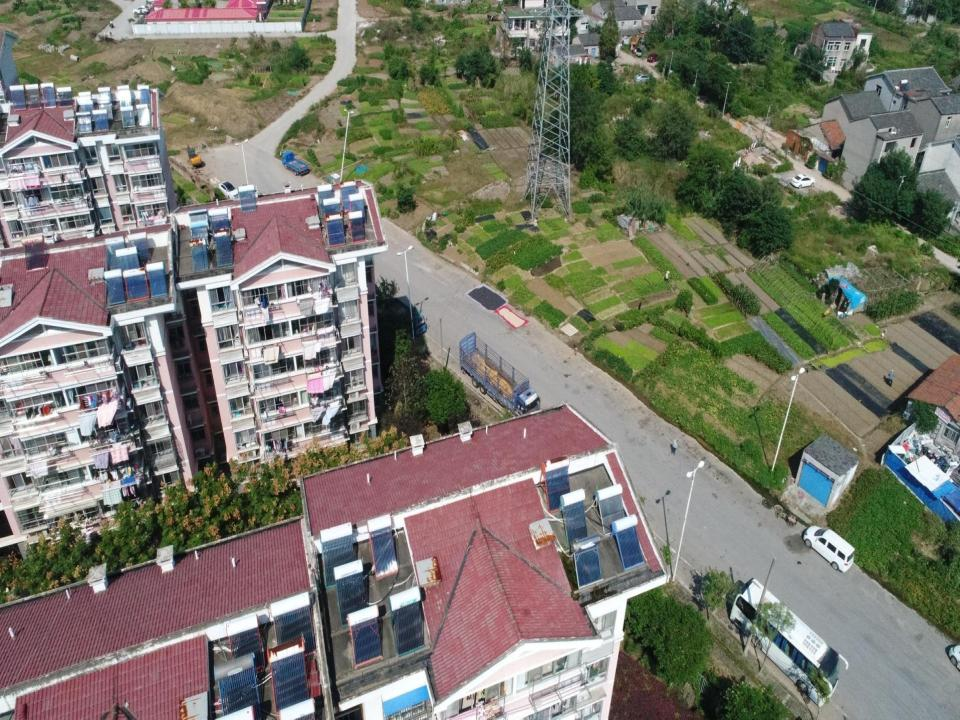bus: (730, 578, 848, 707)
car: (218, 181, 240, 199), (791, 174, 815, 188), (633, 73, 650, 83), (132, 4, 148, 14), (646, 53, 661, 63)
truck: (459, 330, 541, 419), (385, 299, 427, 340), (280, 151, 308, 176)
van: (803, 524, 855, 572)
